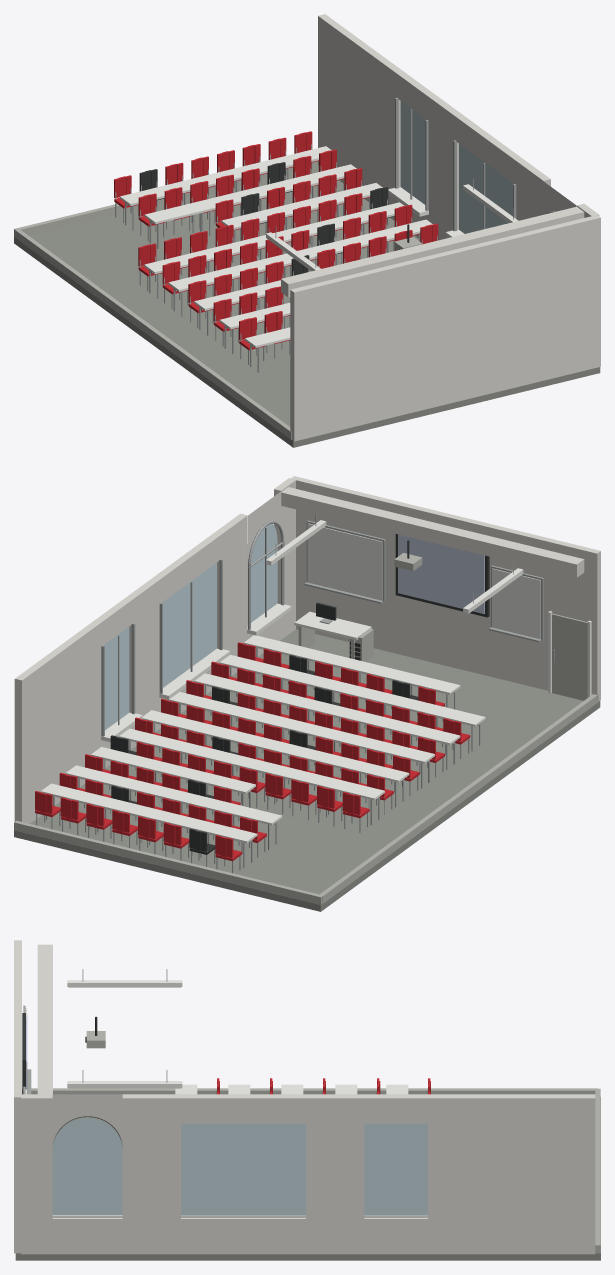
Rendered from ckk-104-interior-df18cebc29e6.glb.
The picture shows the model from 3 angles, top to bottom: view 1: azimuth 30°, elevation 25°; view 2: azimuth 150°, elevation 25°; view 3: azimuth 270°, elevation 25°; orthographic projection. The views are drawn at different scales.
Visible parts, largest first — view 1: ckk-104; view 2: ckk-104; view 3: ckk-104.
Boxes of the visible parts, left/top/right/bottom form: ckk-104: left=14, top=14, right=600, bottom=447; ckk-104: left=14, top=476, right=600, bottom=911; ckk-104: left=14, top=940, right=600, bottom=1260.
Size of the model in its own units: 8.46 by 4.12 by 13.28.
